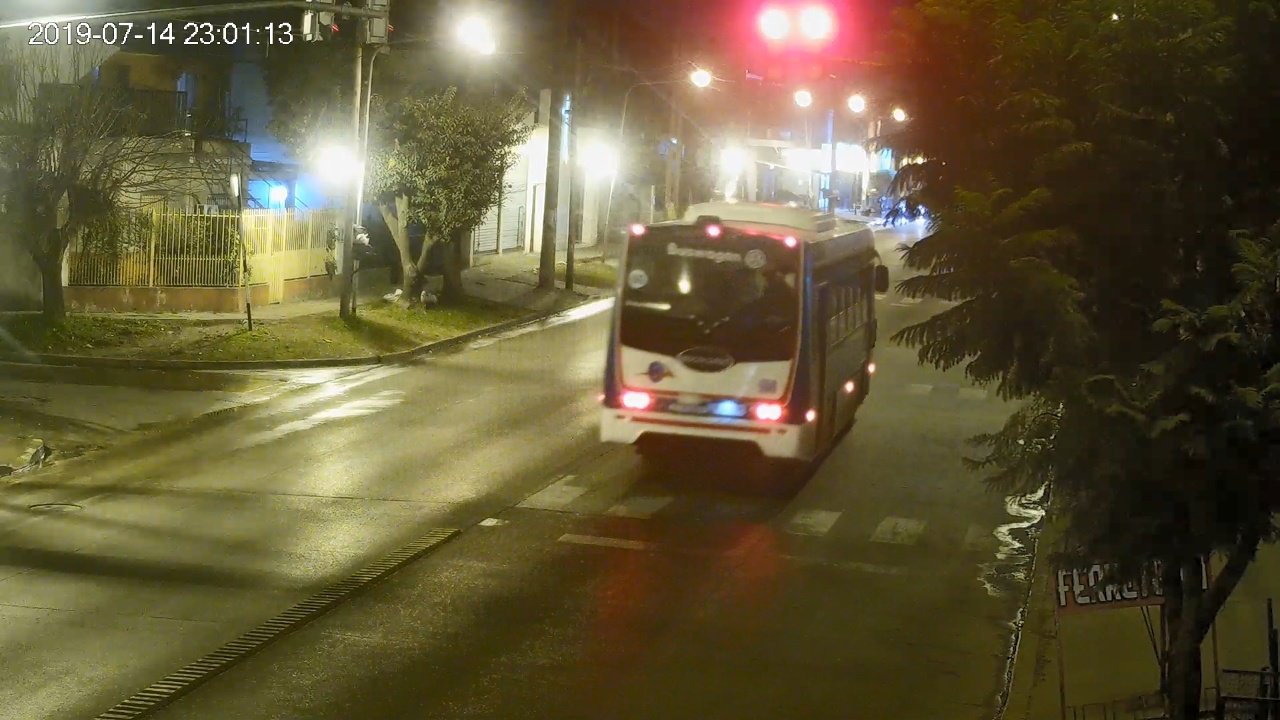bus: (600, 203, 890, 476)
traffic light: (764, 9, 786, 82), (803, 10, 825, 83)
